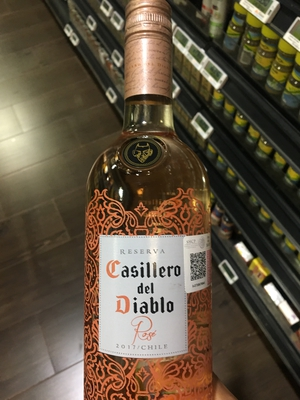casillero del diablo rose: (79, 18, 222, 400)
